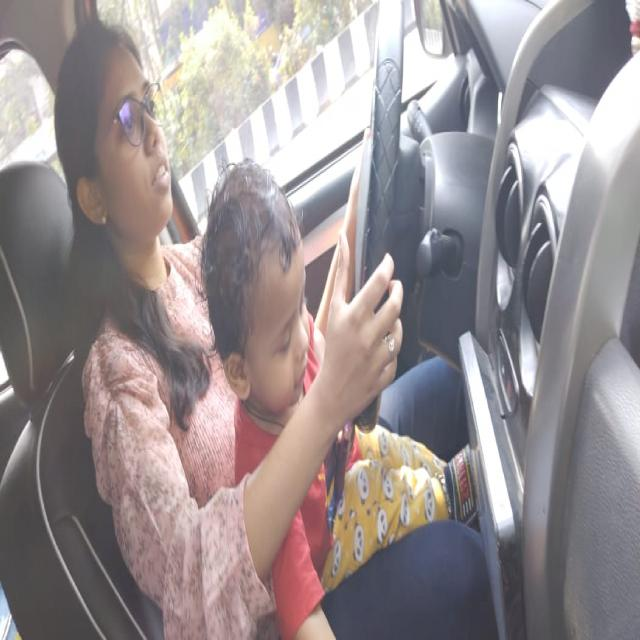child: (200, 158, 320, 429)
person: (54, 10, 176, 275)
